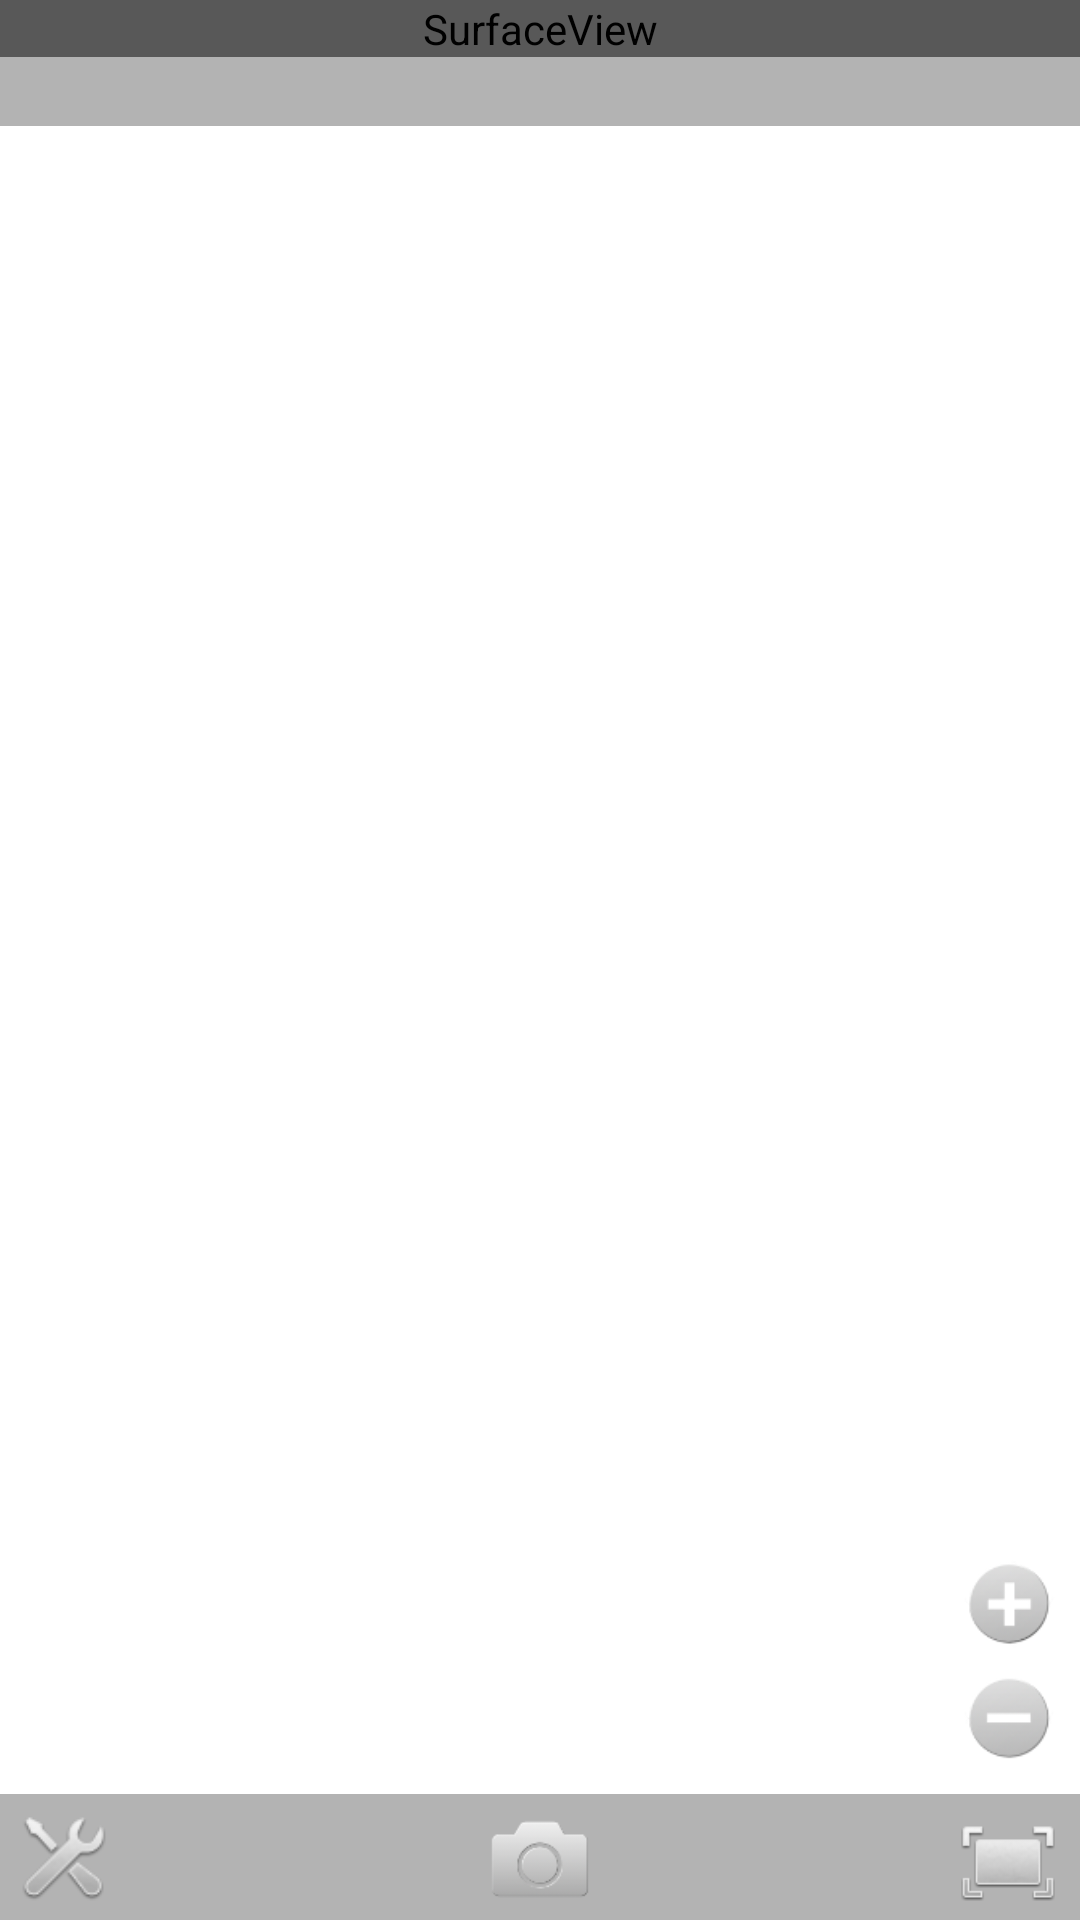

Locate icon controls on the screen. Image size 1080px x 1920px, boxes as (x1, y1, x2, y2).
minus: (970, 1680, 1049, 1758)
photo: (492, 1822, 588, 1896)
plus: (970, 1565, 1049, 1644)
resize: (962, 1827, 1054, 1900)
settings: (25, 1818, 103, 1899)
